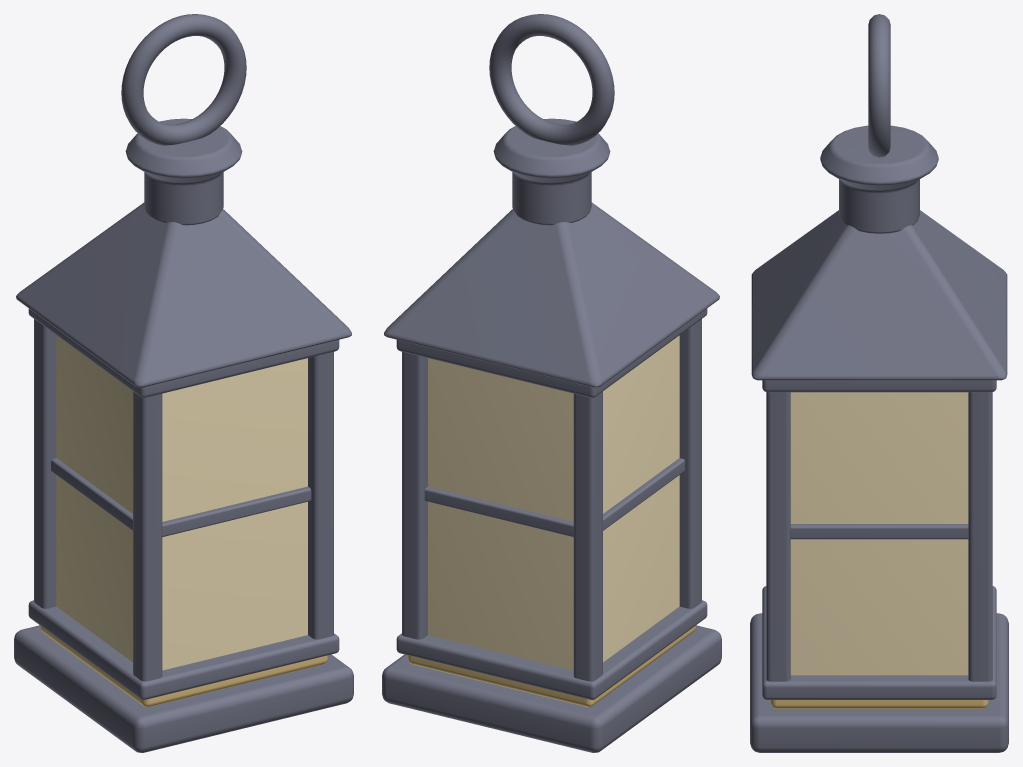
File: lantern.glb
3 renders of one model, left to right at view 1: azimuth 30°, elevation 25°; view 2: azimuth 150°, elevation 25°; view 3: azimuth 270°, elevation 25°, orthographic.
Parts seen in each view (by area): view 1: glass3, Cone, glass2, base, post-1-1, ring0.08, chimney, Torus, post1-1, post-11, ring0.5, bar3 (+2 smaller); view 2: glass1, Cone, glass2, base, post-11, ring0.08, chimney, Torus, post11, post-1-1, ring0.5, bar1 (+2 smaller); view 3: glass0, Cone, base, chimney, post1-1, post11, ring0.08, Torus, ring0.5, bar0, base2.
Boxes of the visible parts, x1,y1,x2,y2 form: glass3: [162, 358, 307, 670]; Cone: [16, 202, 351, 387]; glass2: [56, 335, 132, 662]; base: [14, 625, 353, 752]; post-1-1: [133, 391, 162, 681]; ring0.08: [28, 600, 339, 699]; chimney: [125, 118, 242, 225]; Torus: [121, 14, 246, 145]; post1-1: [308, 352, 333, 639]; post-11: [34, 319, 56, 608]; ring0.5: [28, 308, 339, 397]; bar3: [162, 486, 311, 536]; glass1: [428, 358, 573, 670]; Cone: [384, 202, 719, 387]; glass2: [603, 335, 679, 662]; base: [382, 625, 721, 752]; post-11: [573, 391, 602, 681]; ring0.08: [396, 600, 707, 699]; chimney: [493, 118, 610, 225]; Torus: [489, 14, 614, 145]; post11: [402, 352, 427, 639]; post-1-1: [679, 319, 701, 608]; ring0.5: [396, 308, 707, 397]; bar1: [424, 486, 573, 536]; glass0: [790, 392, 968, 675]; Cone: [751, 210, 1007, 380]; base: [750, 613, 1008, 752]; chimney: [820, 125, 938, 233]; post1-1: [766, 392, 790, 681]; post11: [968, 392, 992, 681]; ring0.08: [762, 586, 996, 699]; Torus: [868, 14, 890, 157]; ring0.5: [762, 380, 996, 392]; bar0: [790, 524, 968, 539]; base2: [770, 700, 988, 708].
Size of the model in its own units: 0.32 by 0.929 by 0.32.
